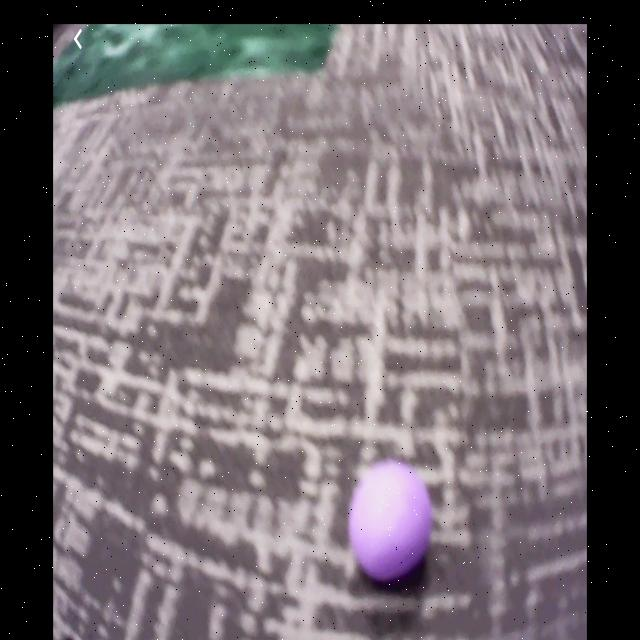ball: (351, 461, 435, 583)
